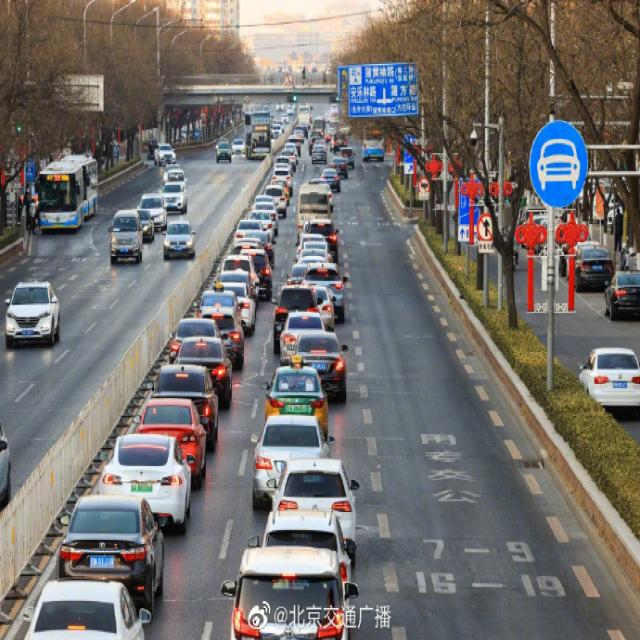point: (199, 33, 353, 216)
